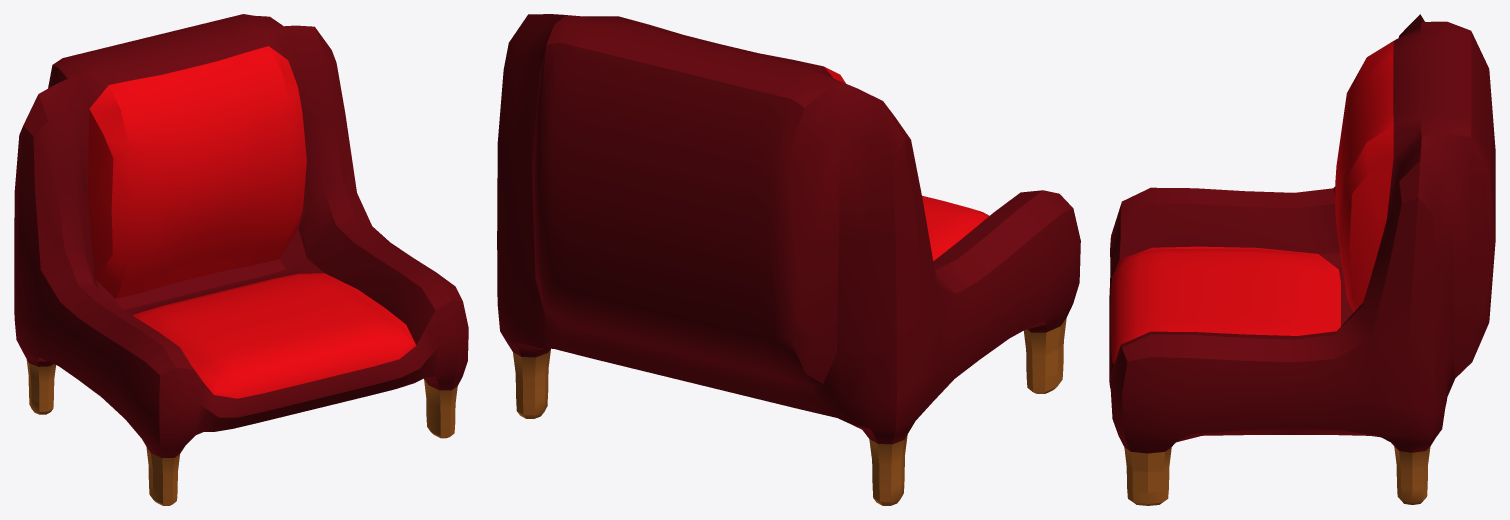
File: DiceCouch.glb
3 renders of one model, left to right at view 1: azimuth 30°, elevation 25°; view 2: azimuth 150°, elevation 25°; view 3: azimuth 270°, elevation 25°, orthographic. The views are drawn at different scales.
Visible parts, largest first — view 1: Cube; view 2: Cube; view 3: Cube.
Boxes of the visible parts, <box> form: Cube: <box>14,14,468,505</box>; Cube: <box>497,14,1080,505</box>; Cube: <box>1109,14,1495,505</box>.
Size of the model in its own units: 5.61 by 5.4 by 5.32.
